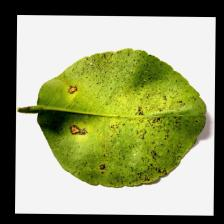canker: (62, 63, 174, 173)
